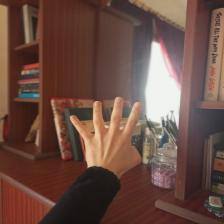four: (55, 93, 156, 182)
